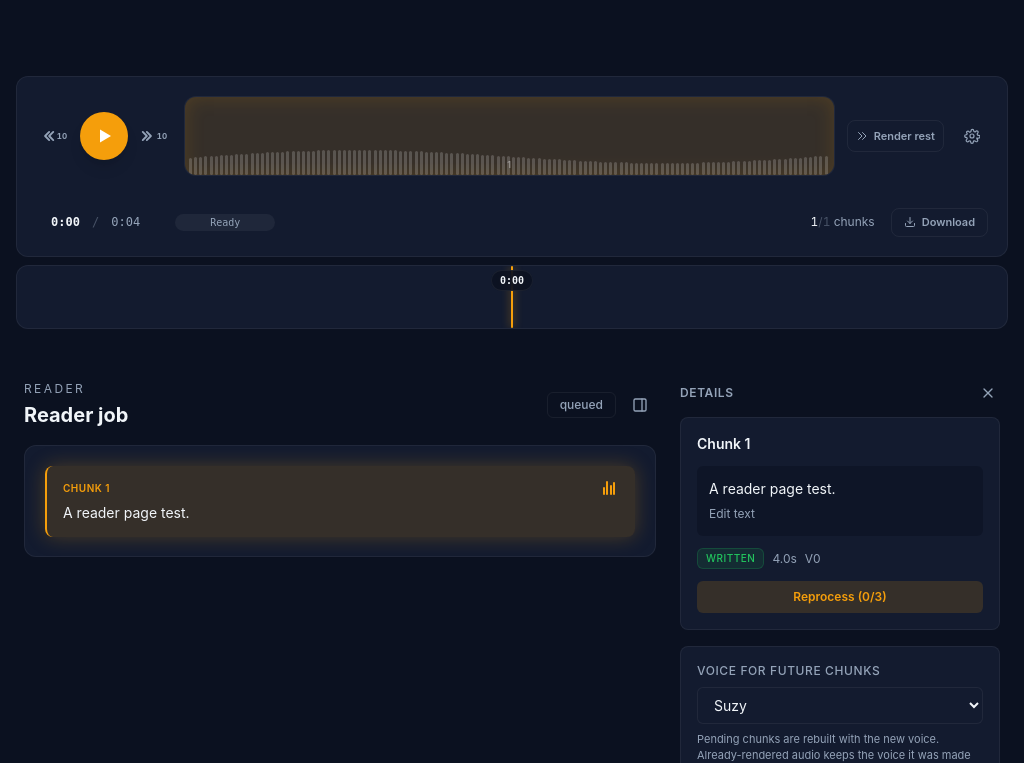
Test case: full re-render rebuilds written audio and resets playback
The width and height of the screenshot is (1024, 763).
Expected: the heading "Reader job" is shown, [24,401,128,429]
Click the button named "Play": {"x": 104, "y": 136} [80,112,128,160]
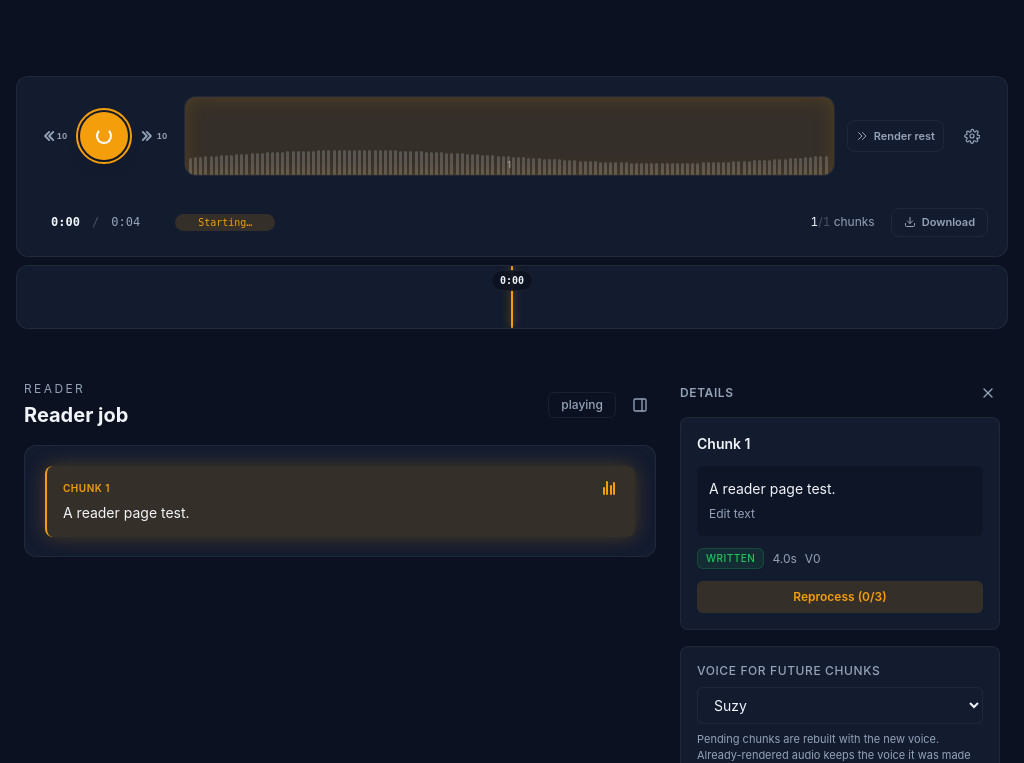
Expected: the button named "Pause" is shown, [80,112,128,160]
Select "Howard" in the dropdown: {"x": 840, "y": 706} [697,687,983,724]
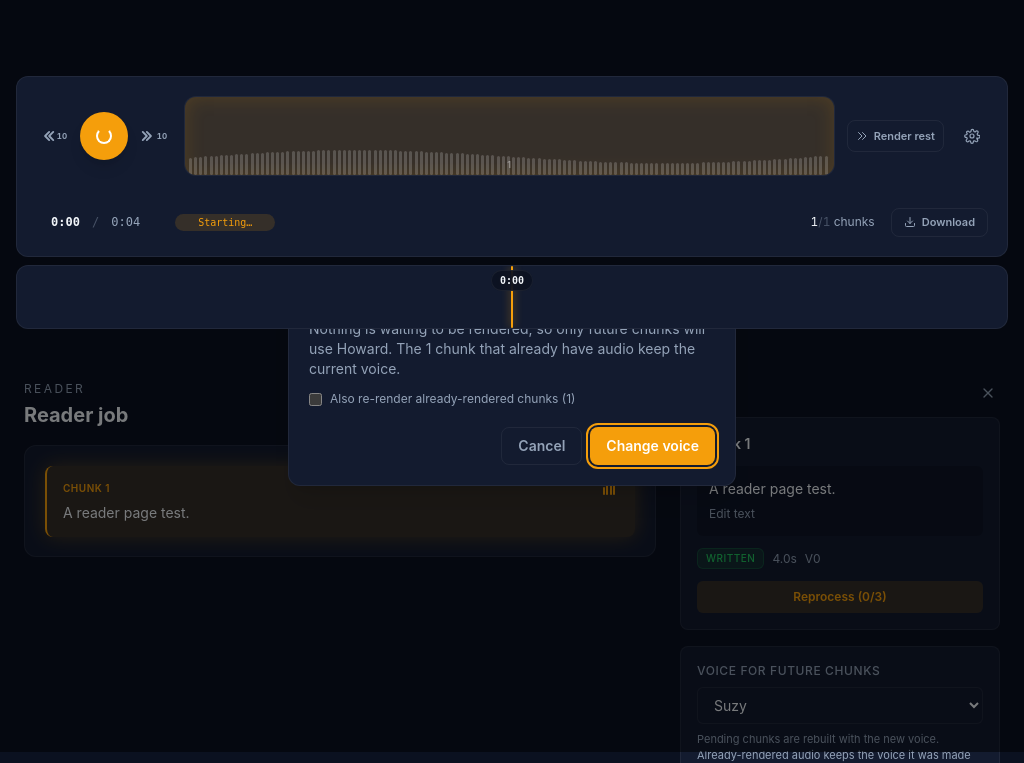
// The re-render choice lives inside the confirmation dialog.
Click the checkbox labelled "Also re-render already-rendered chunks (1)": {"x": 316, "y": 400} [309,393,322,406]
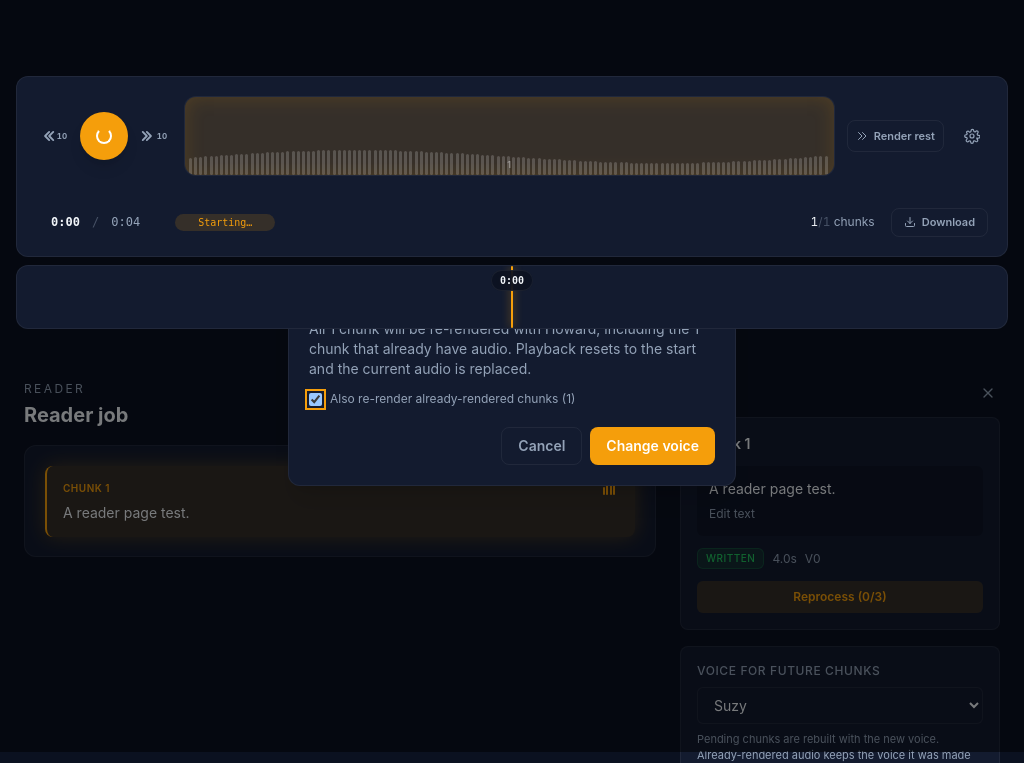
Click the button "Change voice": {"x": 653, "y": 446} [590,427,715,465]
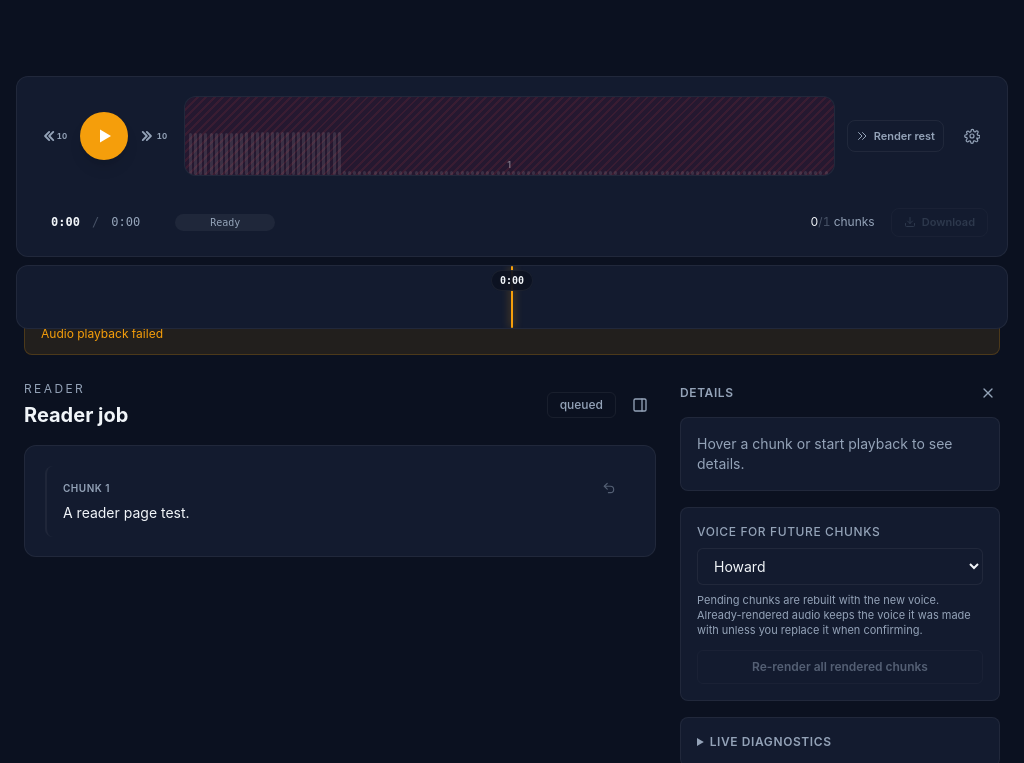
Expected: the button named "Play" is shown, [80,112,128,160]
